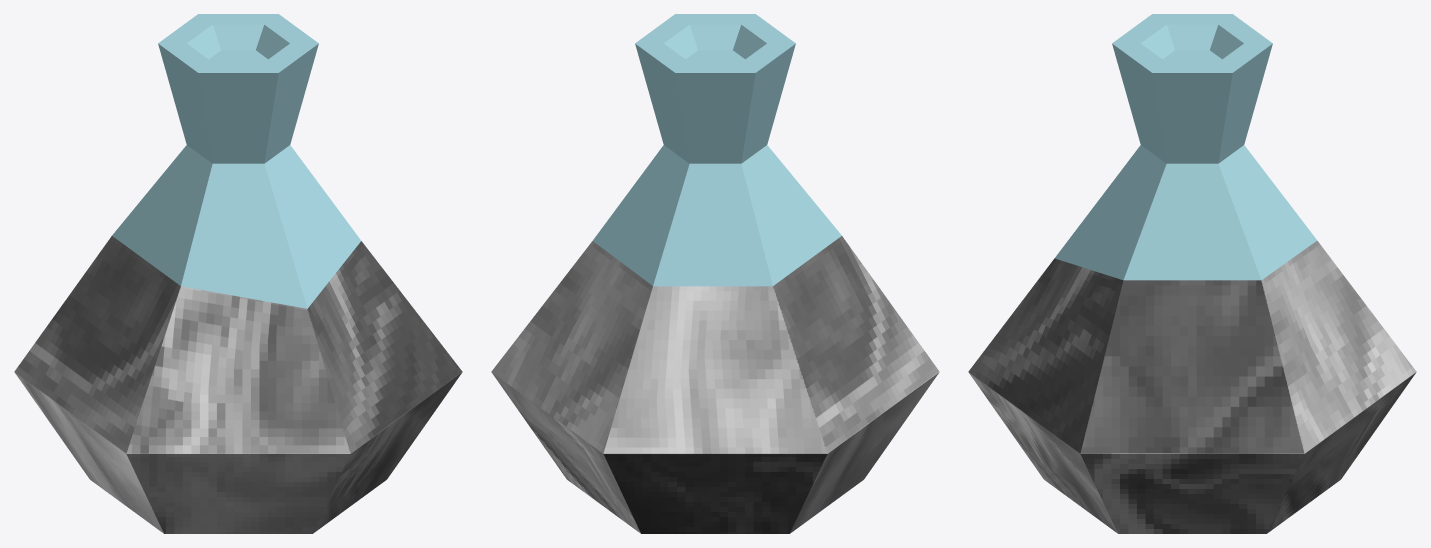
File: BottleSample.fbx
The picture shows the model from 3 angles, left to right: view 1: azimuth 30°, elevation 25°; view 2: azimuth 150°, elevation 25°; view 3: azimuth 270°, elevation 25°; orthographic projection.
Parts seen in each view (by area): view 1: Cylinder; view 2: Cylinder; view 3: Cylinder.
Boxes of the visible parts, bbox=[...] form: Cylinder: bbox=[14, 14, 462, 533]; Cylinder: bbox=[491, 14, 939, 533]; Cylinder: bbox=[968, 14, 1416, 533].
Size of the model in its own units: 0.3253 by 0.403 by 0.3756.
Materials: 2 (1 with a texture image).
